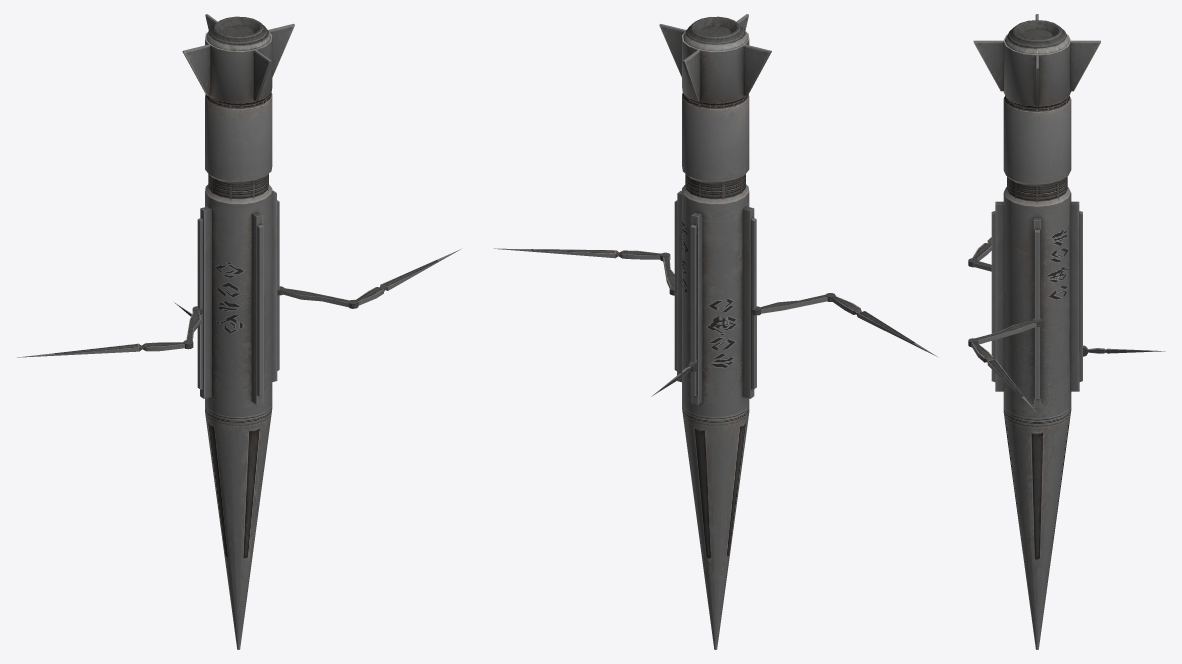
The model's file is WEP-StarScream Missile.obj.
3 renders of one model, left to right at view 1: azimuth 30°, elevation 25°; view 2: azimuth 150°, elevation 25°; view 3: azimuth 270°, elevation 25°, orthographic.
Visible parts, largest first — view 1: C_Reference_XR; view 2: C_Reference_XR; view 3: C_Reference_XR.
Part boxes in pixels (left/top/right/bottom): C_Reference_XR: left=17, top=14, right=460, bottom=649; C_Reference_XR: left=494, top=14, right=938, bottom=649; C_Reference_XR: left=968, top=14, right=1165, bottom=649.
Size of the model in its own units: 137 by 182 by 53.22.
1 material, 1 textured.
